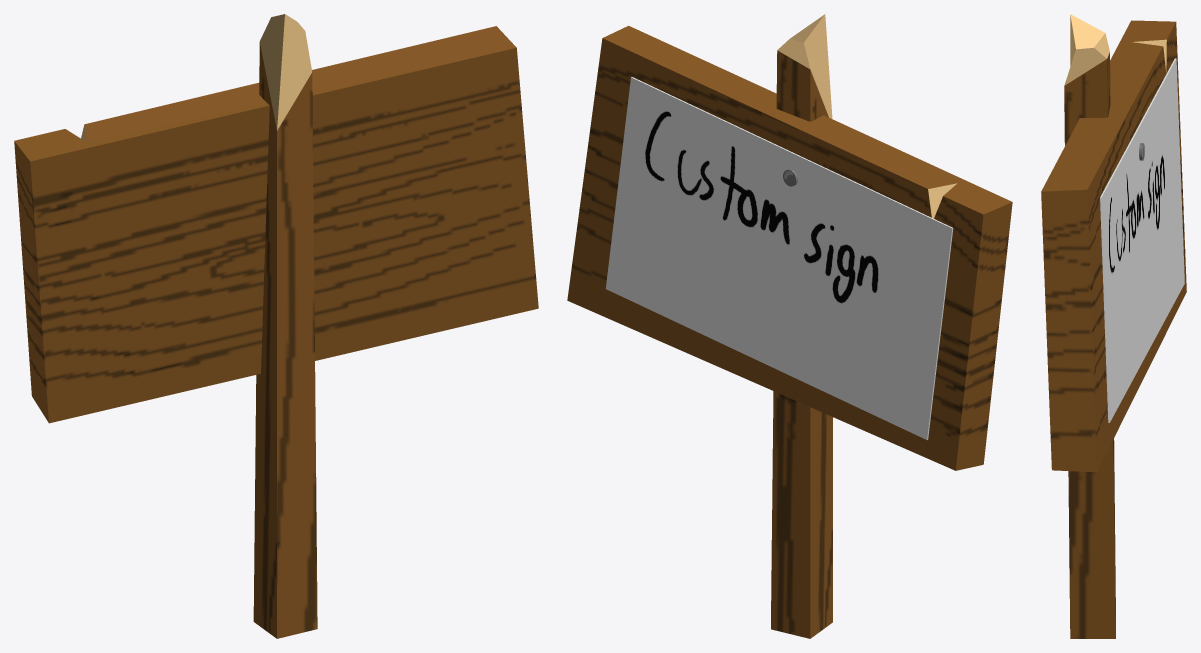
Rendered from Sign.fbx.
The picture shows the model from 3 angles, left to right: view 1: azimuth 30°, elevation 25°; view 2: azimuth 150°, elevation 25°; view 3: azimuth 270°, elevation 25°; orthographic projection. The views are drawn at different scales.
Parts seen in each view (by area): view 1: WoodenSign; view 2: SignBoard, WoodenSign; view 3: WoodenSign, SignBoard.
Part boxes in pixels (x1,y1,x2,y2): WoodenSign: [14, 14, 538, 638]; SignBoard: [605, 77, 953, 439]; WoodenSign: [567, 14, 1012, 638]; WoodenSign: [1041, 14, 1186, 638]; SignBoard: [1100, 58, 1184, 422].
Bounding box in the file's own units: 1.02 × 0.2763 × 1.28.
Materials: 2 (2 with a texture image).
